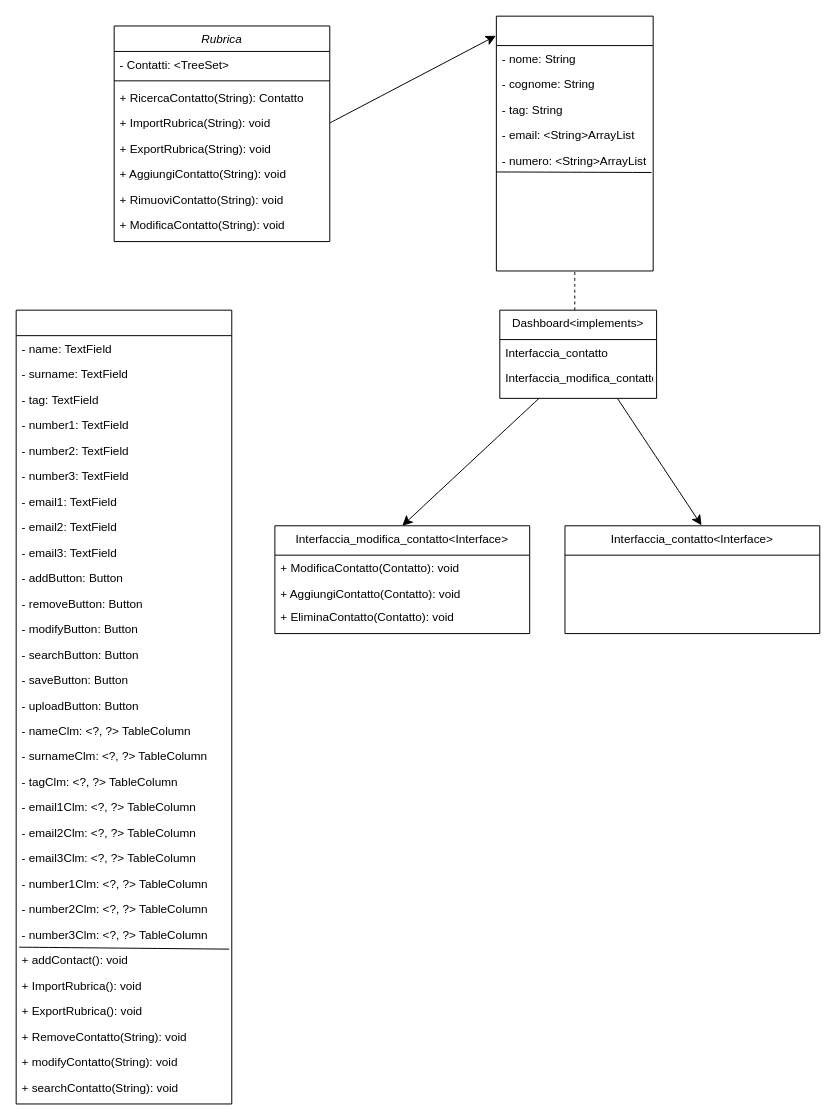
Some shapes in this 836 by 1120 pixel diagram are drawn without their labels. Each missing label, with the box of its shape:
Contatto: (495, 15, 653, 271)
RubricaController: (15, 309, 232, 1104)
